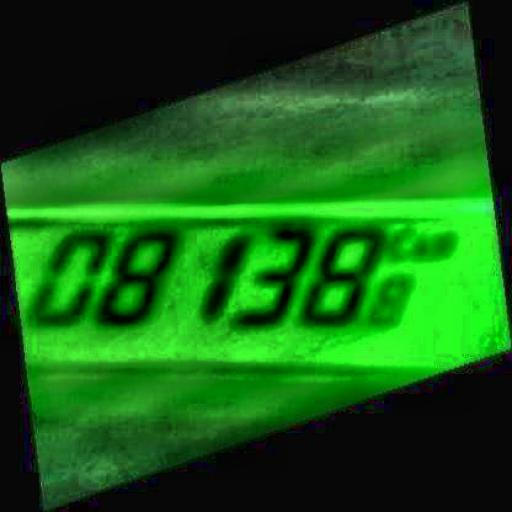DISPLAY_REGION: (9, 192, 511, 399)
SERIAL_REGION: (23, 222, 454, 332)
